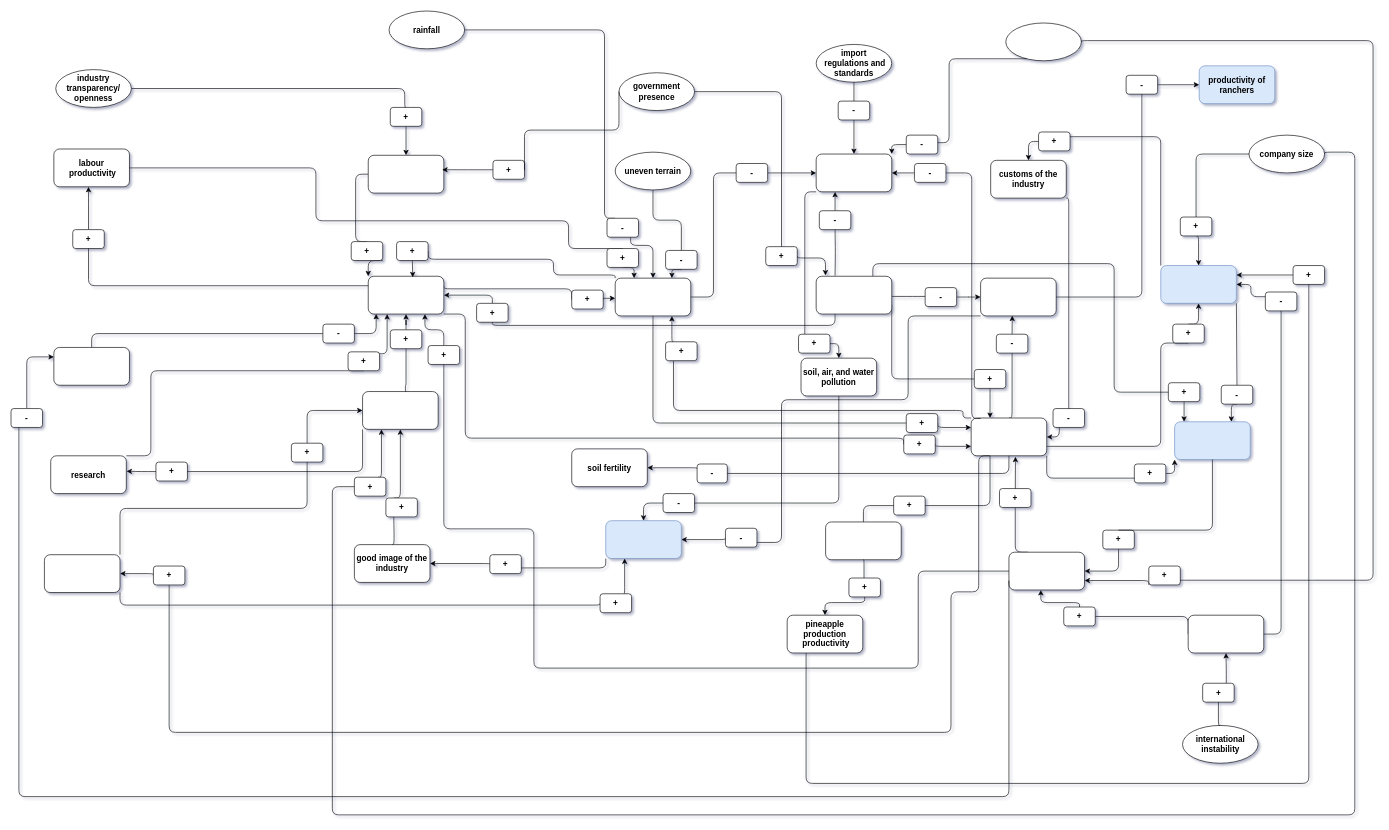
Image size: 1389x830. Some labels were removed from this diagram. Each missing label, with the centre of its shape:
business risk: the point at 91,366
collaboration/ communication: the point at 406,174
community's health/ wellbeing: the point at 643,539
demand of PAL products: the point at 1046,571
employment: the point at 82,573
extraction from field: the point at 653,297
FF-based materials cost: the point at 1226,634
funding: the point at 400,410
green consumers: the point at 1043,41
innovation: the point at 406,295
land availability: the point at 863,540
profitability: the point at 1198,284
stable fly: the point at 1018,297
stubble management regulation: the point at 854,295
stubble valorization: the point at 1009,436
sustainability of the industry: the point at 1212,440
use of agrochemicals: the point at 854,172
